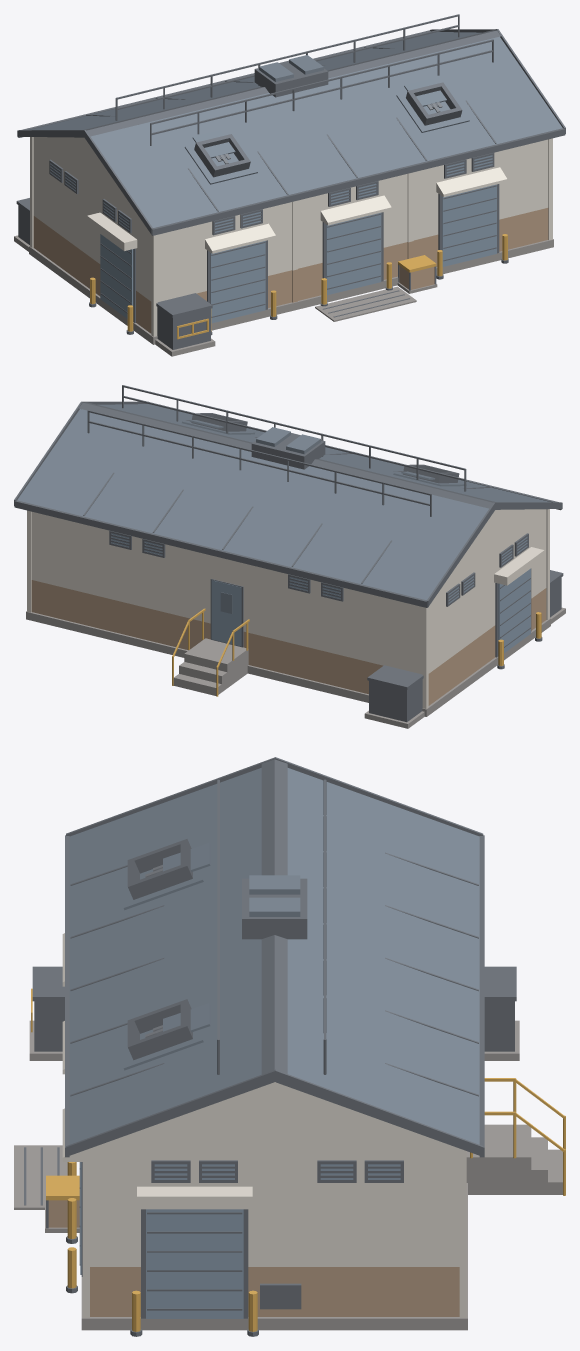
The model's file is warehouse.fbx.
3 renders of one model, top to bottom at view 1: azimuth 30°, elevation 25°; view 2: azimuth 150°, elevation 25°; view 3: azimuth 270°, elevation 25°, orthographic. The views are drawn at different scales.
Visible parts, largest first — view 1: aaaaa.001; view 2: aaaaa.001; view 3: aaaaa.001.
Part boxes in pixels (x1,y1,x2,y2): aaaaa.001: [14, 14, 565, 356]; aaaaa.001: [14, 385, 565, 728]; aaaaa.001: [14, 757, 565, 1336].
Bounding box in the file's own units: 1280 × 531 × 931.
